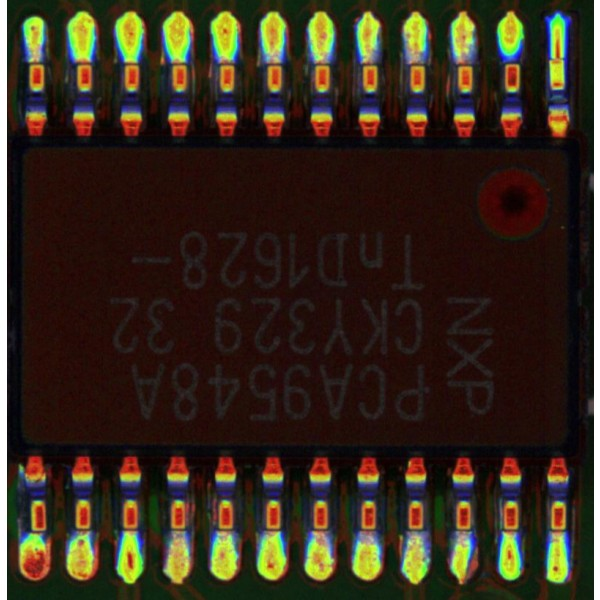Bad_podu: (552, 516, 565, 553), (313, 516, 327, 547), (220, 516, 231, 553), (173, 516, 184, 549), (554, 39, 564, 74)
